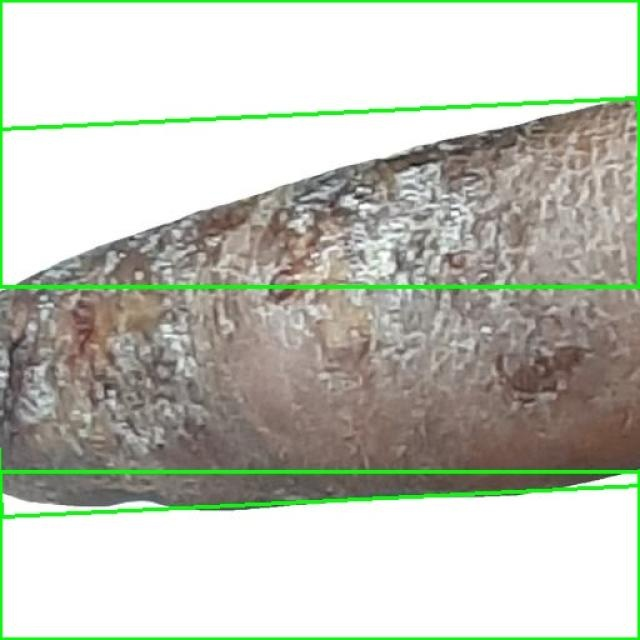Eczema: (0, 98, 640, 517), (0, 0, 639, 286), (0, 471, 639, 639)
